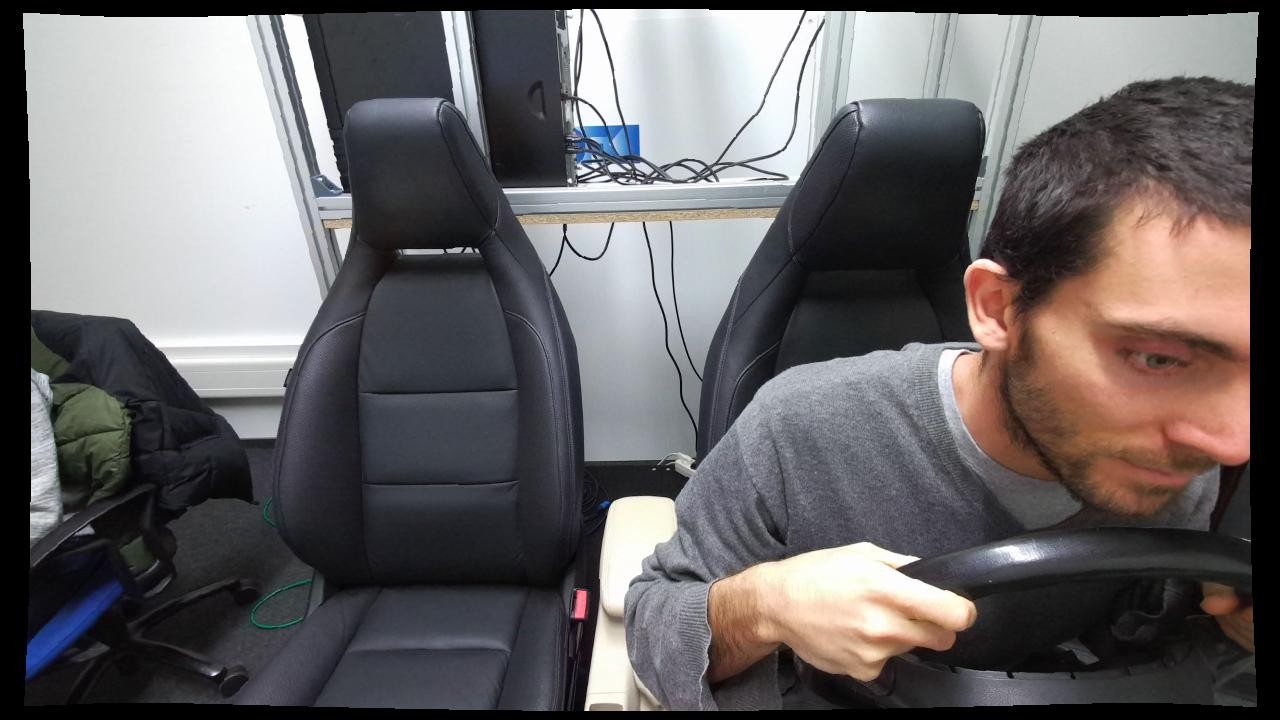Distracted: (624, 81, 1255, 710)
